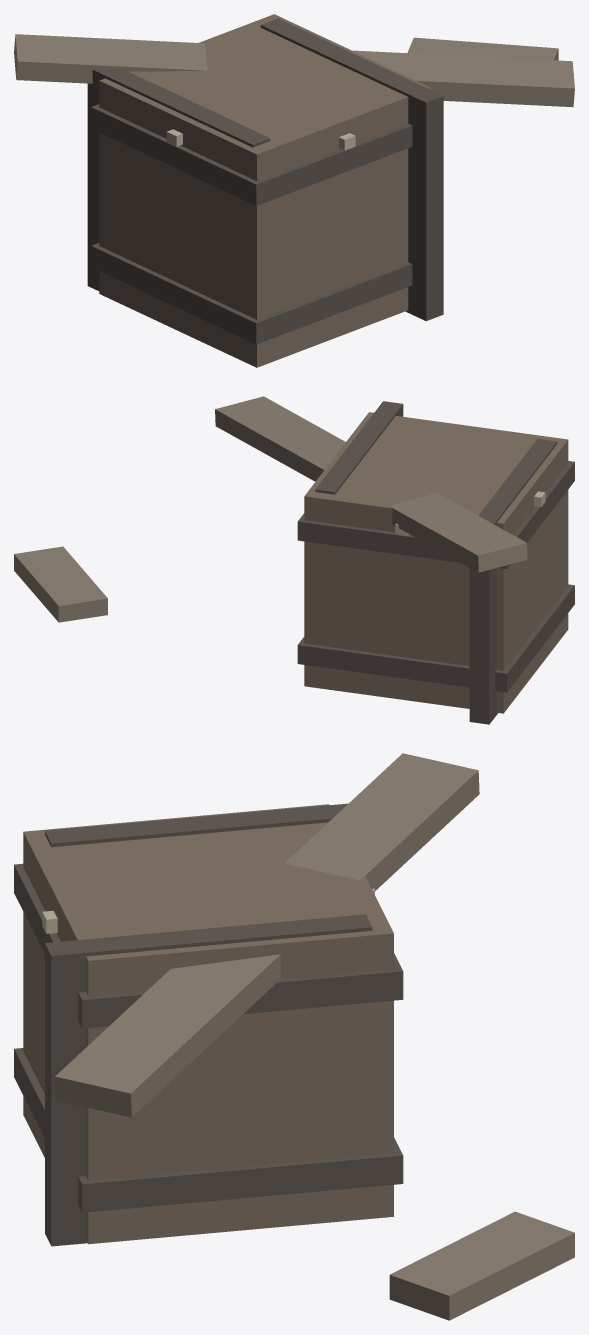
File: flotsam_crate.gltf
3 views of the same model, one above another, from view 1: azimuth 30°, elevation 25°; view 2: azimuth 150°, elevation 25°; view 3: azimuth 270°, elevation 25° (orthographic). The views are drawn at different scales.
Visible parts, largest first — view 1: Body; view 2: Body; view 3: Body.
Boxes of the visible parts, x1,y1,x2,y2 form: Body: (14,14,574,367); Body: (14,396,574,724); Body: (14,753,574,1320).
Bounding box in the file's own units: 2.2 × 0.8552 × 1.44.
